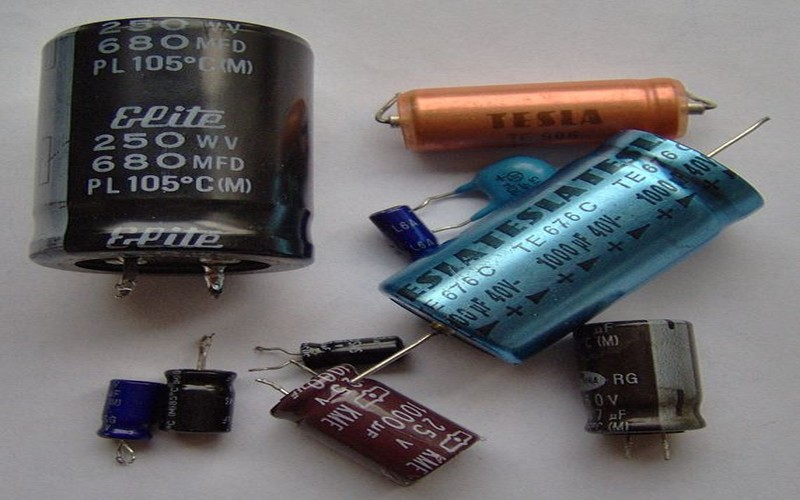Capacitor: (378, 91, 777, 466), (22, 6, 334, 291), (48, 311, 487, 500)
